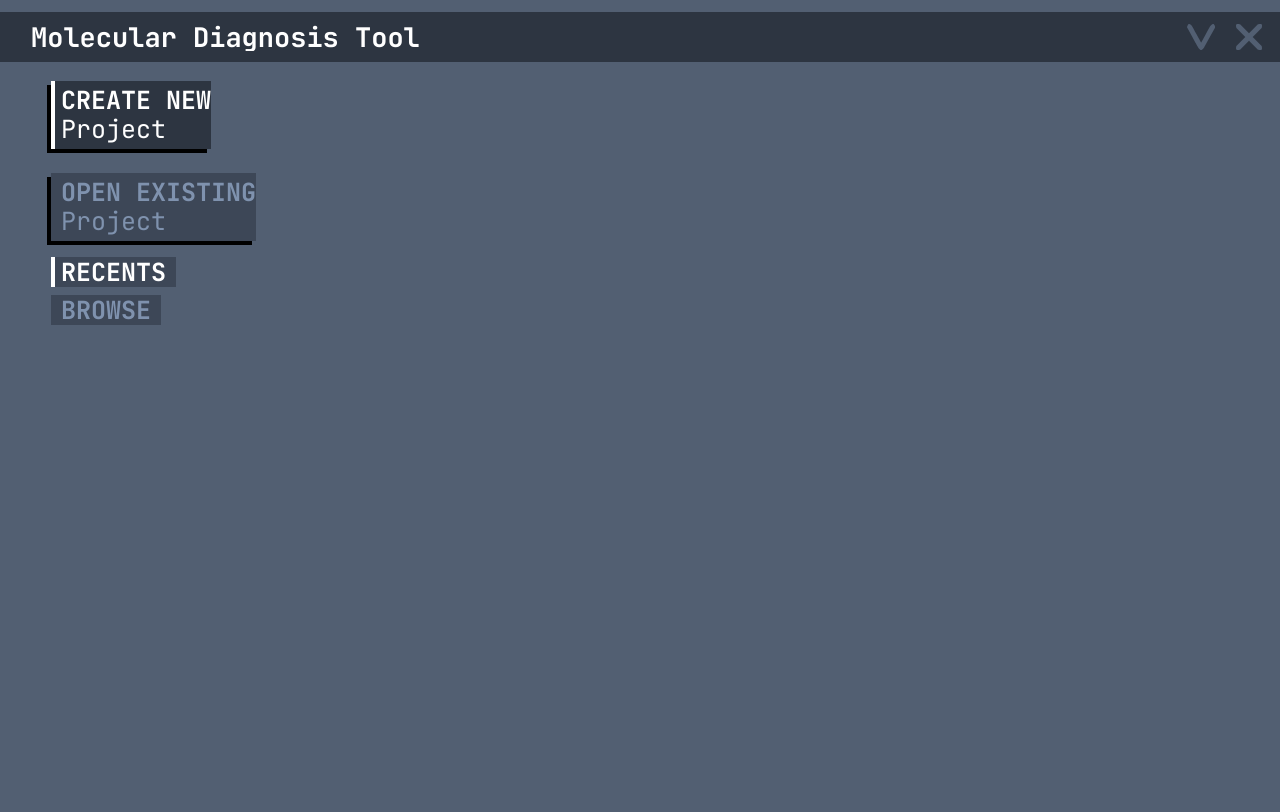
Test: live progress › shows a stage with nothing to count as just its name
The width and height of the screenshot is (1280, 812).
What coordinates should you click on to do the following:
click the button "Open Existing Project"
I would click on:
 (154, 207)
Its box is [51,173,256,241].
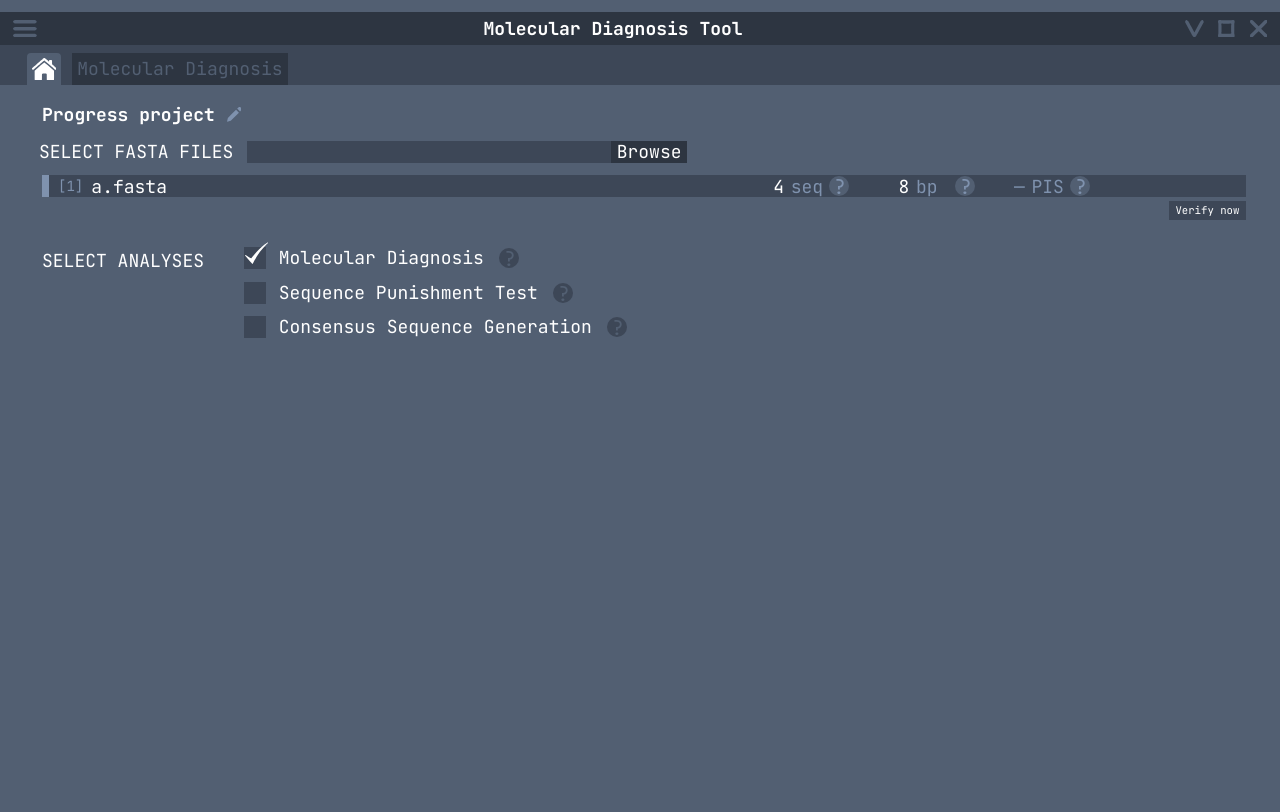
Check: the heading "Progress project" is shown, box [42,105,215,125]
What coordinates should you click on to do the following:
click the tab "Molecular Diagnosis"
I would click on:
 (180, 69)
Its box is [72,53,288,85].
Wait 400 ms
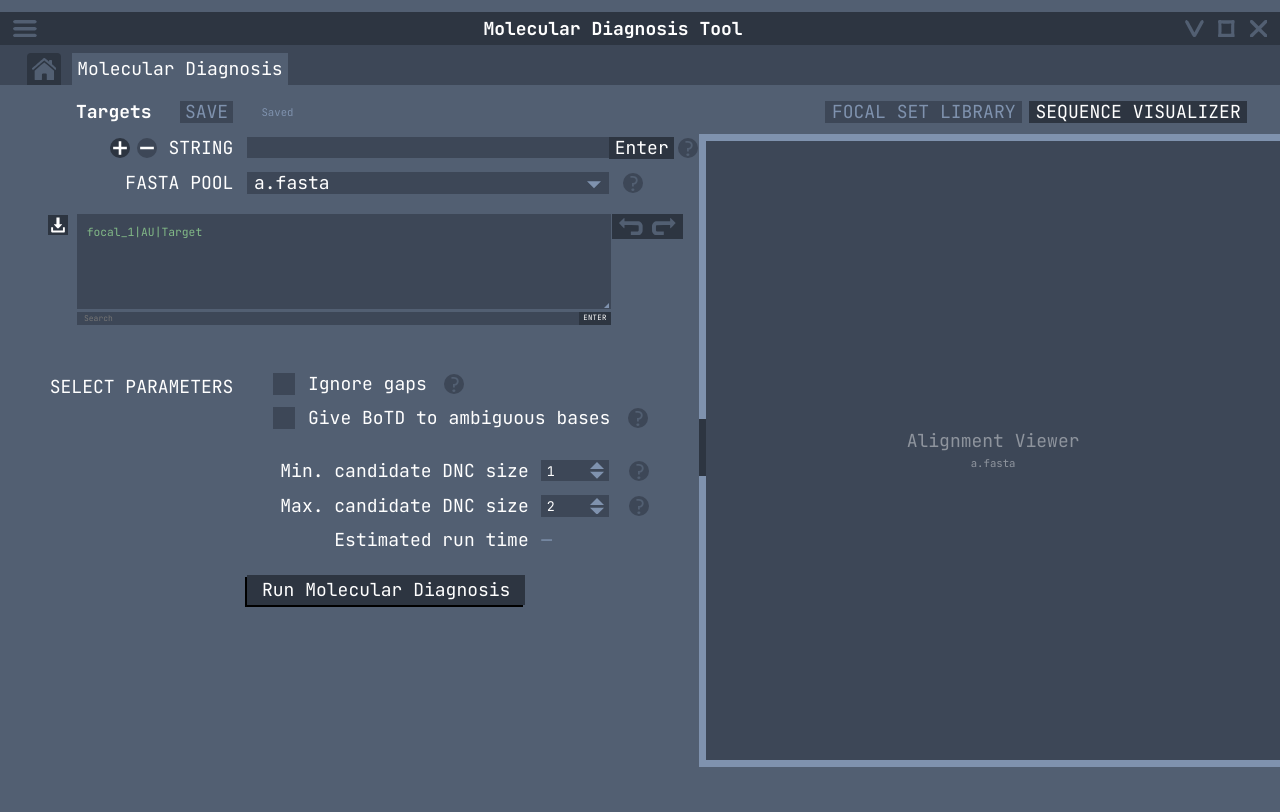
Check: the button "Run Molecular Diagnosis" is enabled
What coordinates should you click on to do the following:
click the button "Run Molecular Diagnosis"
I would click on:
 (386, 590)
Its box is [247,575,525,605].
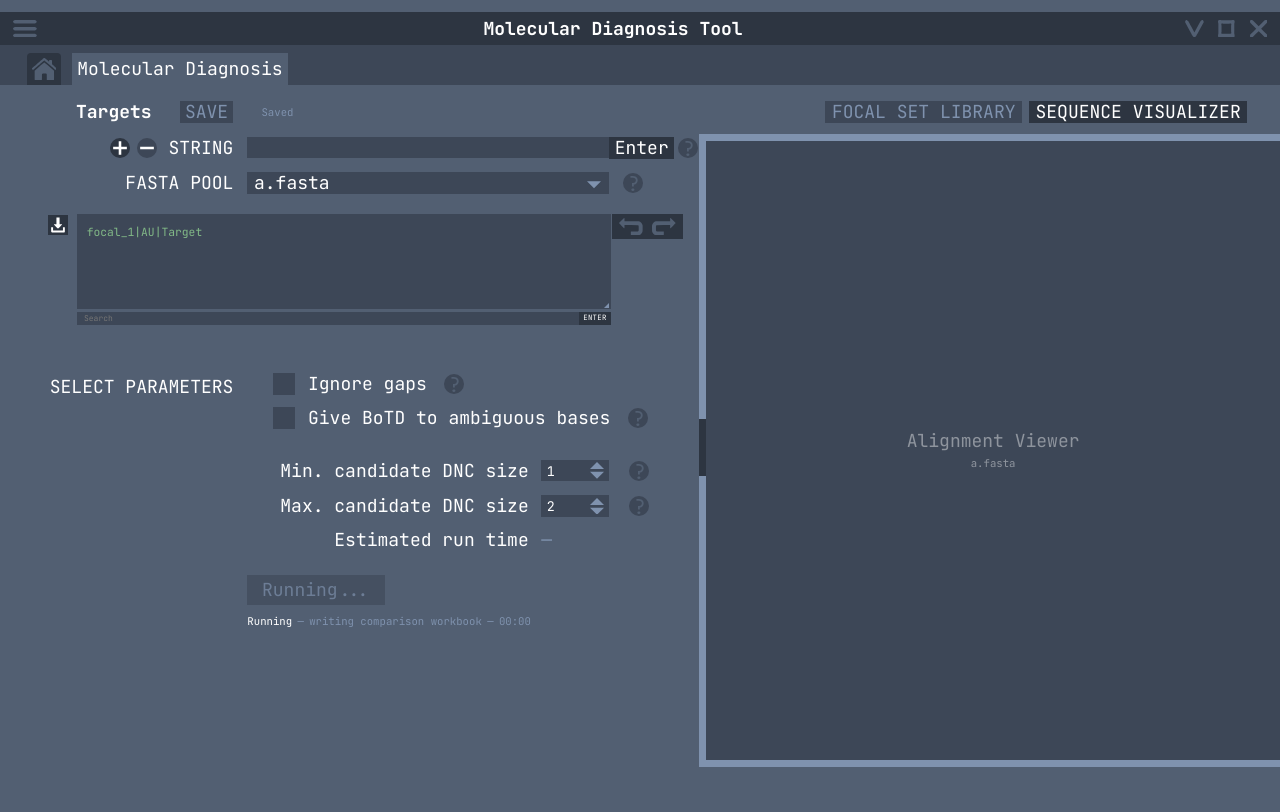
Check: the text "Running" is shown, box [247,615,292,629]
Check: the message with class "run-panel__status--running" shows "writing comparison workbook", box [309,614,482,628]
